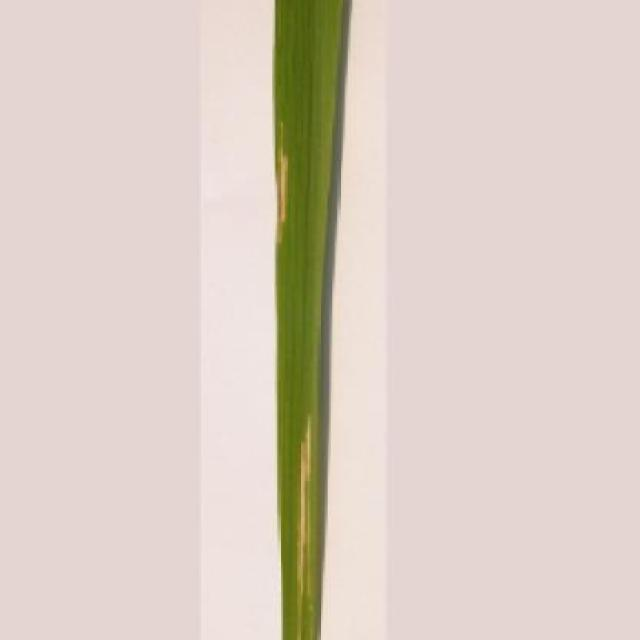Brown_Spot: (268, 0, 352, 640)
